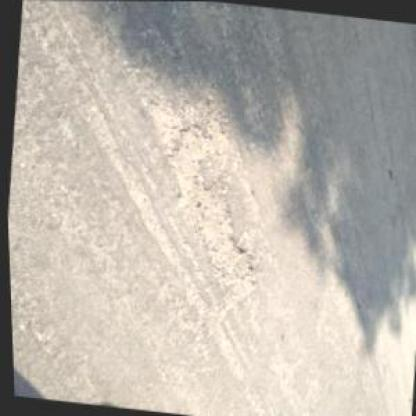pothole: (124, 93, 274, 308)
